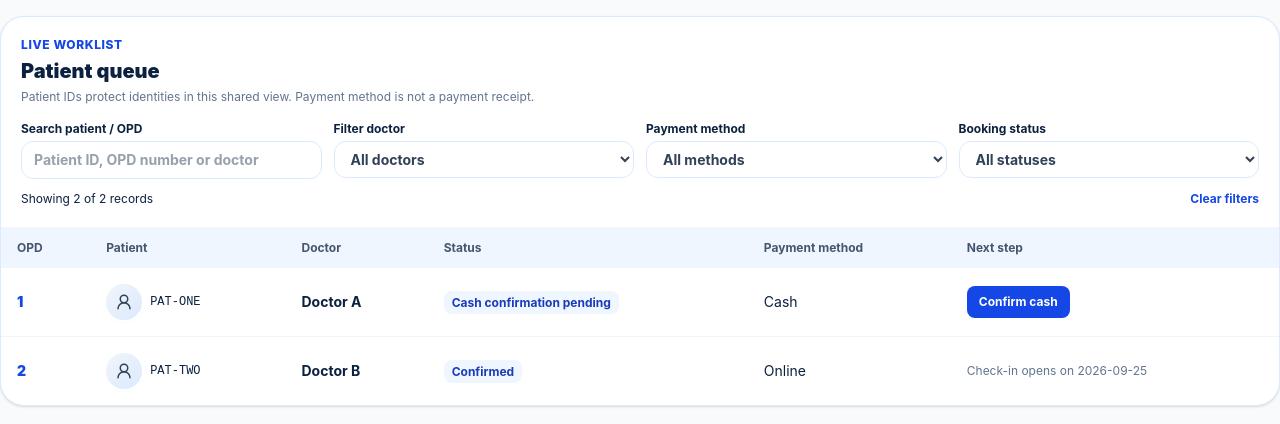
Test case: OperationsWorklist › intersects filters and restores the whole queue on clear
Select "Cash" in the dropdown labelled "Payment method" at {"x": 796, "y": 160}, box [646,141,946,178]
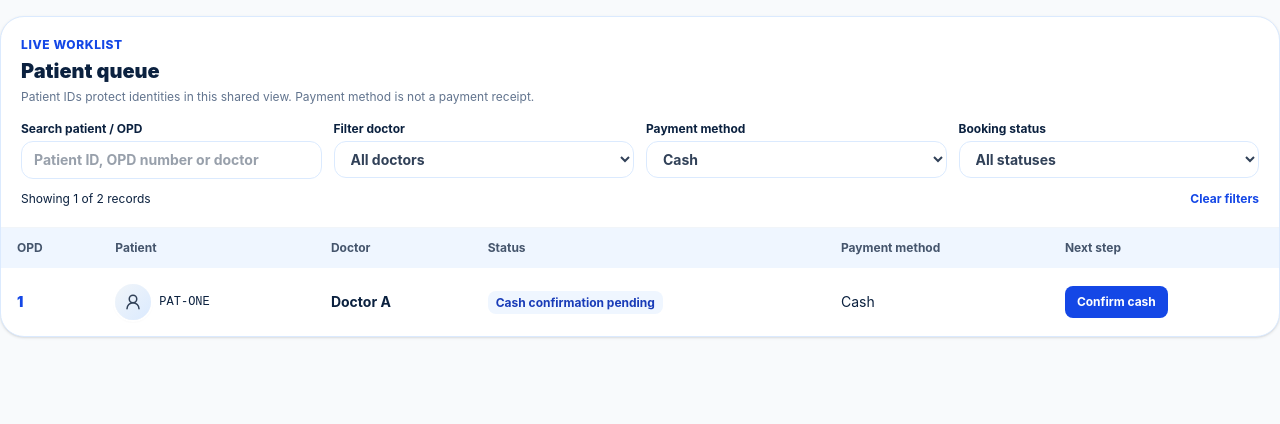
expect the text "PAT-ONE" is shown: met, box [159,294,210,310]
expect the text "PAT-TWO" is gone: met
Select "Doctor B" in the dropdown labelled "Filter doctor" at {"x": 484, "y": 160}, box [334,141,634,178]
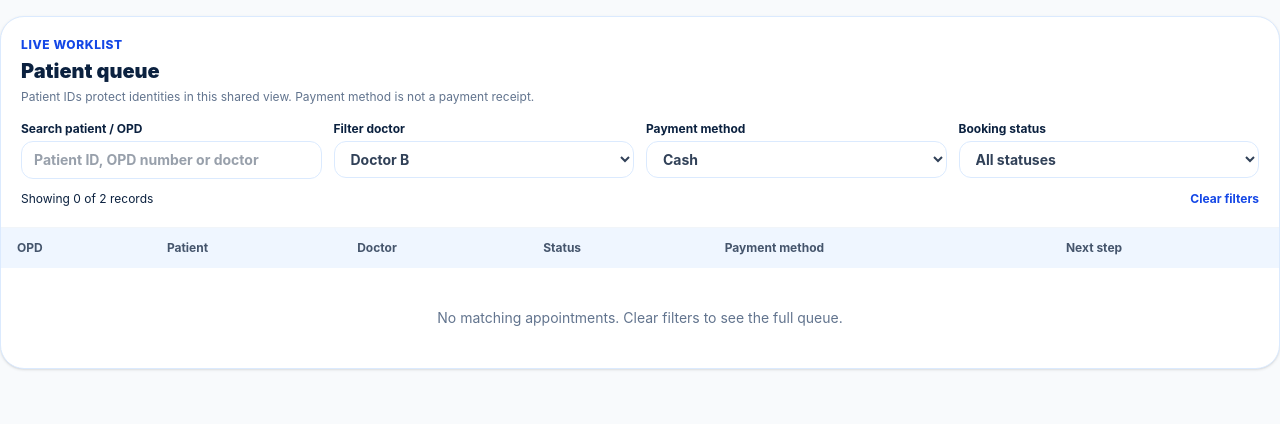
expect the text "No matching appointments" is shown: met, box [437,309,843,326]
Click the button "Clear filters" at {"x": 1225, "y": 199}, box [1190,191,1259,207]
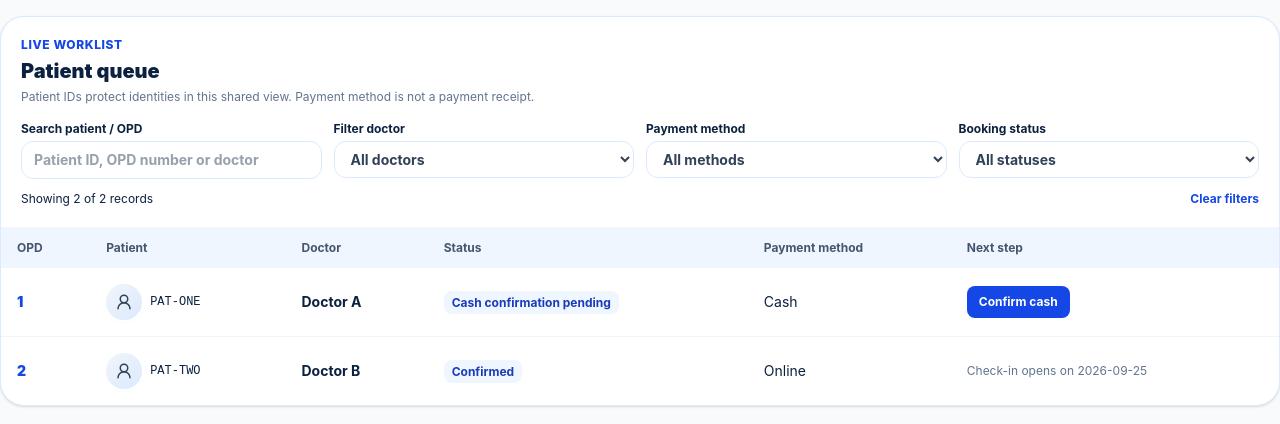
Type "2" into the field labelled "Search patient / OPD" at {"x": 171, "y": 160}, box [21,141,322,179]
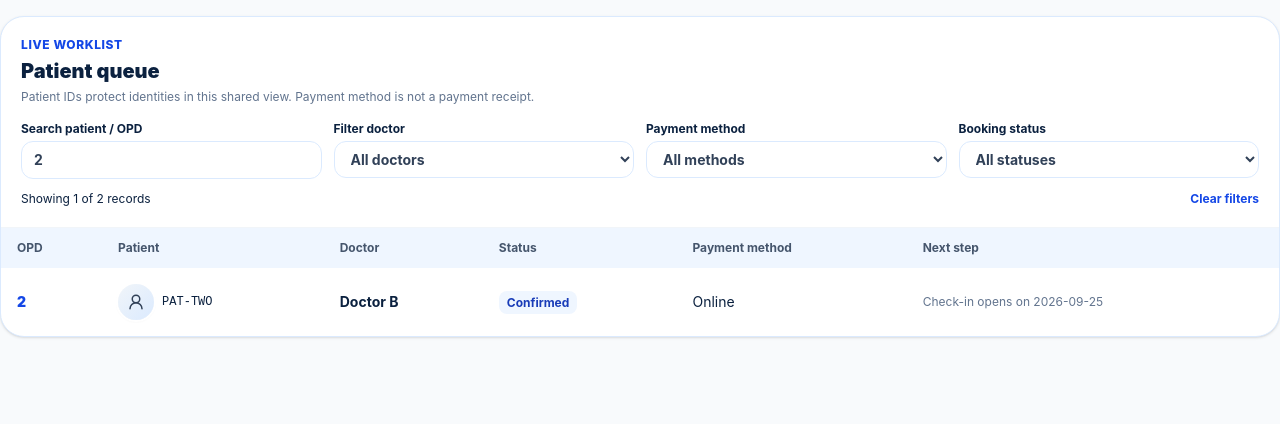
expect the text "PAT-TWO" is shown: met, box [162,294,212,310]
expect the text "PAT-ONE" is gone: met
